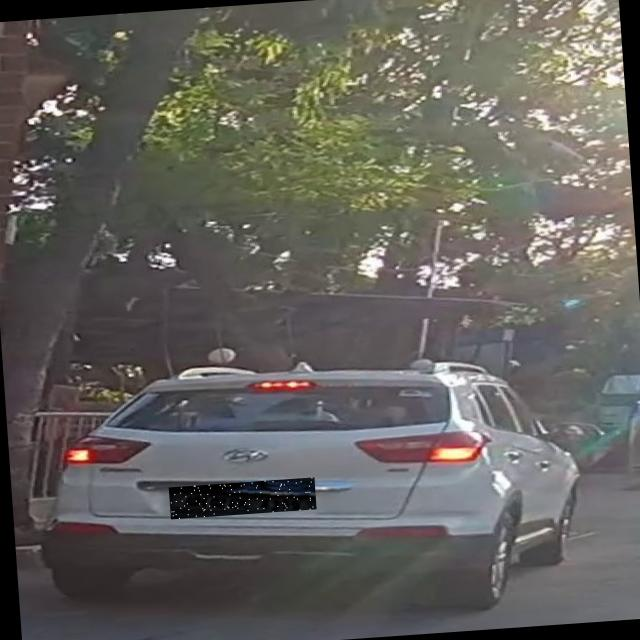Plate: (169, 478, 317, 520)
